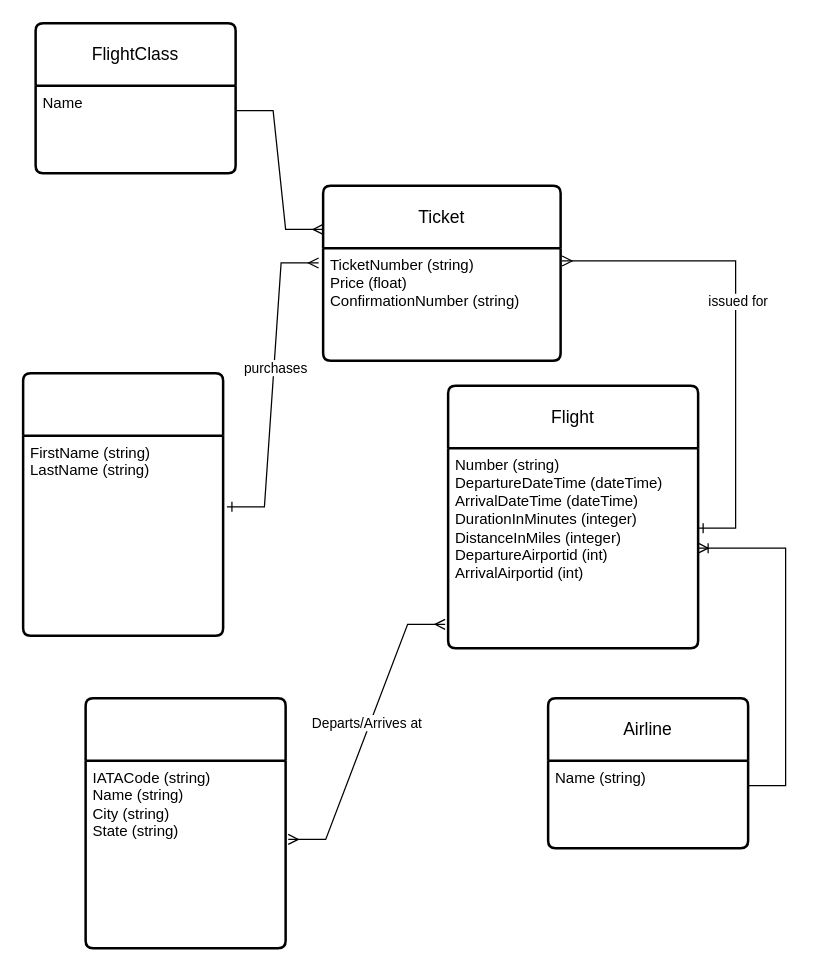
This 818x970 diagram has some shape labels left out. The box of each missing label's shape, as (x1, y1, x2, y2) in pixels:
Airport: (84, 696, 286, 949)
Passenger: (21, 371, 224, 636)
